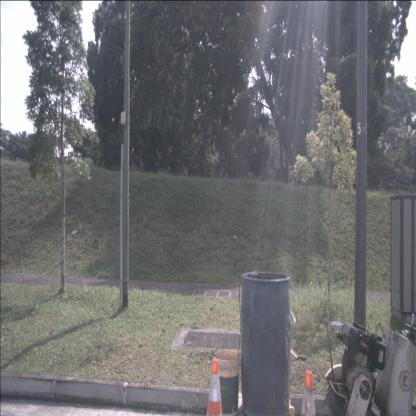movable_object-trafficcone: (205, 358, 224, 416), (300, 370, 318, 416)
